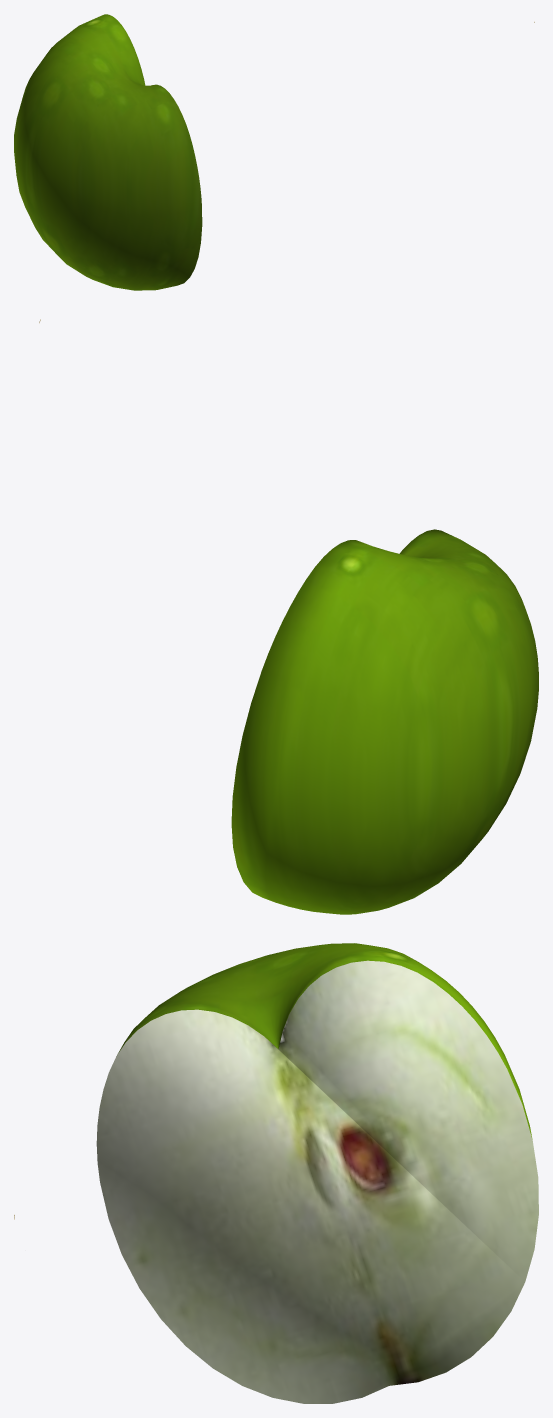
The model's file is AppleCut.fbx.
3 views of the same model, one above another, from view 1: azimuth 30°, elevation 25°; view 2: azimuth 150°, elevation 25°; view 3: azimuth 270°, elevation 25° (orthographic). The views are drawn at different scales.
Visible parts, largest first — view 1: SketchUp.001; view 2: SketchUp.001; view 3: SketchUp.001.
Boxes of the visible parts, <box> form: SketchUp.001: <box>14,14,202,290</box>; SketchUp.001: <box>231,529,538,914</box>; SketchUp.001: <box>96,943,538,1403</box>.
Size of the model in its own units: 585 by 335 by 377.
